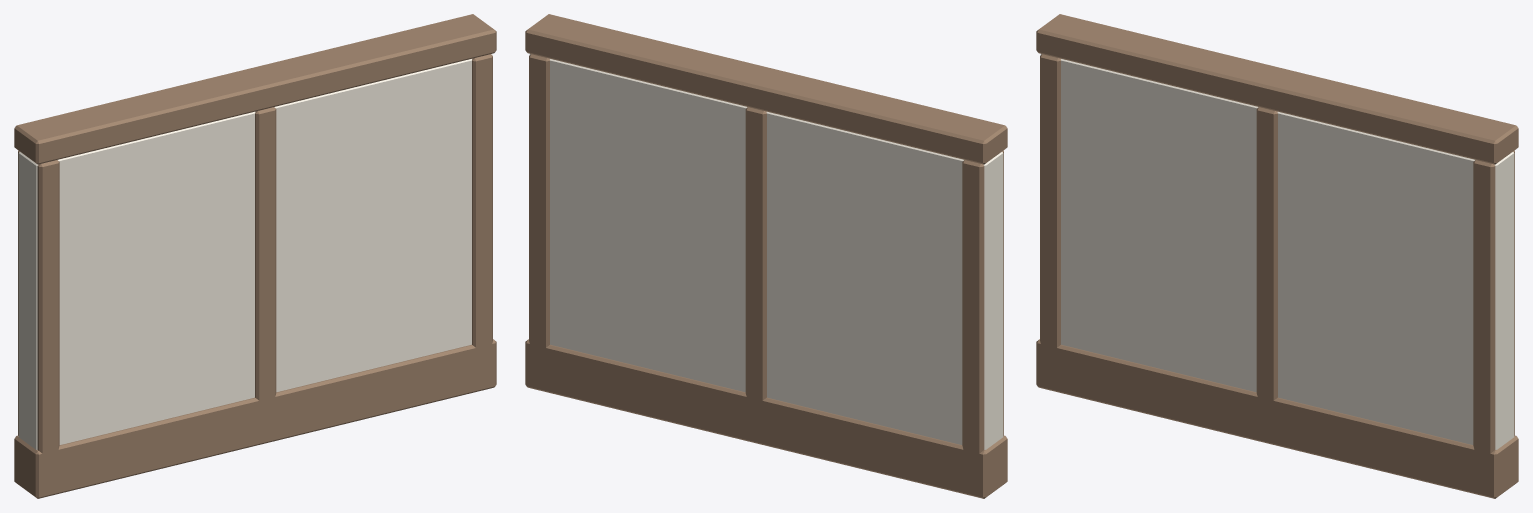
File: prop_iwall.glb
3 renders of one model, left to right at view 1: azimuth 30°, elevation 25°; view 2: azimuth 150°, elevation 25°; view 3: azimuth 330°, elevation 25°, orthographic.
Visible parts, largest first — view 1: prop_iwall; view 2: prop_iwall; view 3: prop_iwall.
Part boxes in pixels (bbox=[...]): prop_iwall: bbox=[14, 14, 496, 498]; prop_iwall: bbox=[525, 14, 1007, 498]; prop_iwall: bbox=[1036, 14, 1518, 498].
Bounding box in the file's own units: 4.04 × 3 × 0.36.
